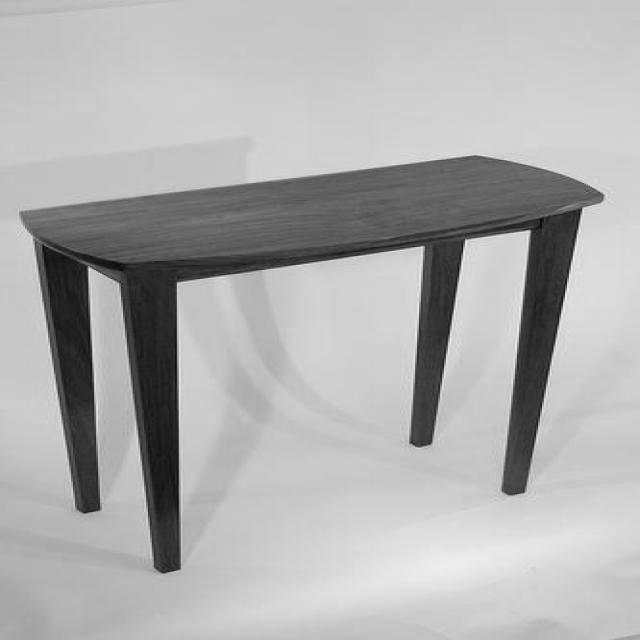table: (20, 152, 605, 574)
